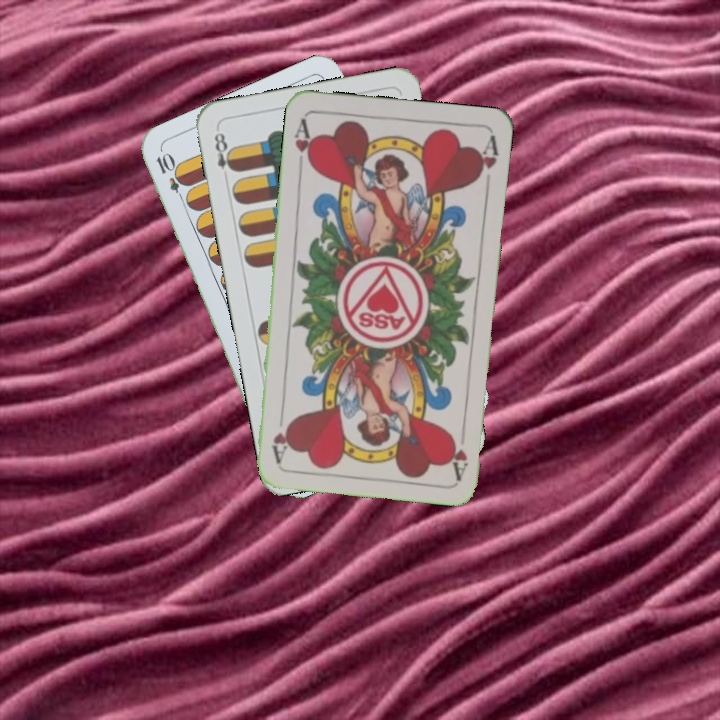E10: (152, 149, 189, 206)
E8: (210, 125, 238, 184)
HA: (290, 114, 317, 173), (445, 421, 471, 480)
